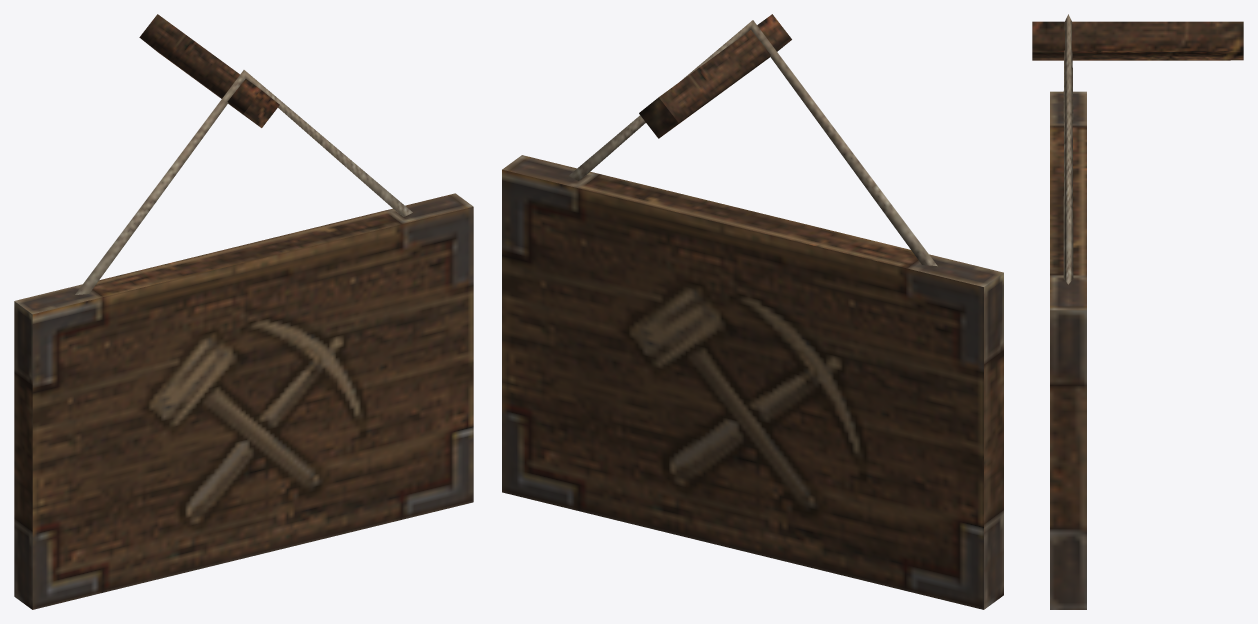
File: Sign01_a.FBX
The picture shows the model from 3 angles, left to right: view 1: azimuth 30°, elevation 25°; view 2: azimuth 150°, elevation 25°; view 3: azimuth 270°, elevation 25°; orthographic projection. The views are drawn at different scales.
Parts seen in each view (by area): view 1: Sign01_a; view 2: Sign01_a; view 3: Sign01_a.
Part boxes in pixels (box(x1,y1,x2,y2)): Sign01_a: box(14, 14, 473, 609); Sign01_a: box(502, 14, 1003, 609); Sign01_a: box(1032, 14, 1243, 609).
Size of the model in its own units: 80 by 83.15 by 32.73.
